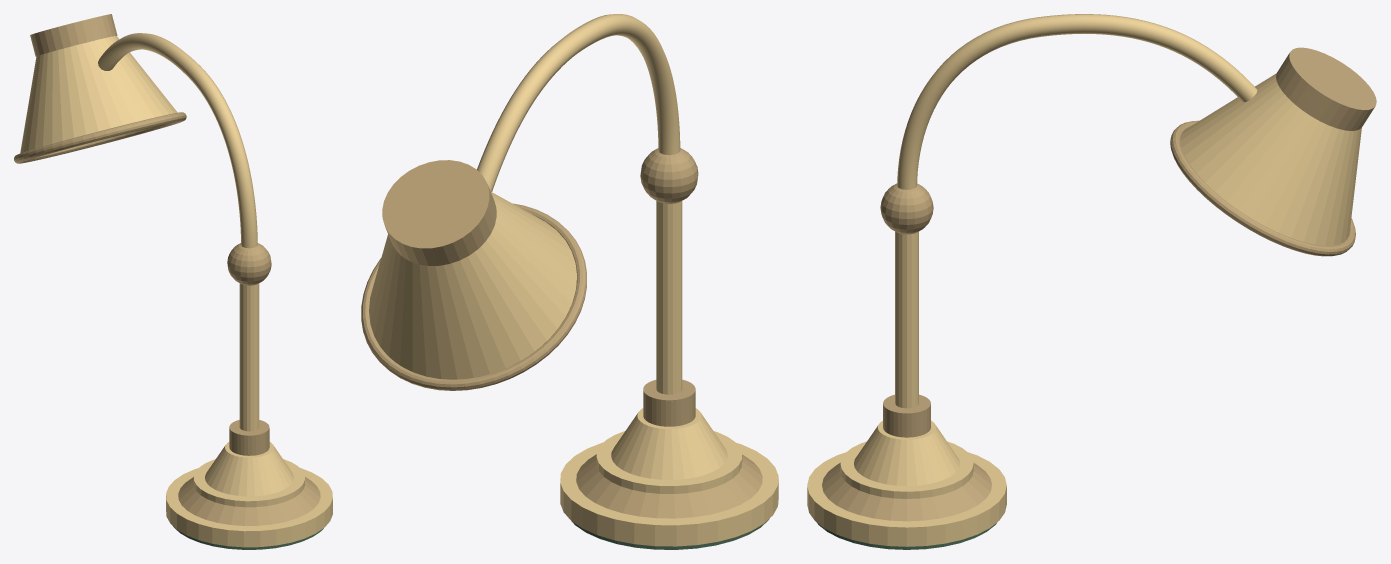
Rendered from lib_pulpit_lamp.glb.
3 views of the same model, side by side, from view 1: azimuth 30°, elevation 25°; view 2: azimuth 150°, elevation 25°; view 3: azimuth 270°, elevation 25° (orthographic). The views are drawn at different scales.
Parts seen in each view (by area): view 1: lib_pulpit_lamp; view 2: lib_pulpit_lamp; view 3: lib_pulpit_lamp.
Boxes of the visible parts, box(x1,y1,x2,y2) form: lib_pulpit_lamp: box(14, 14, 332, 549); lib_pulpit_lamp: box(361, 14, 778, 549); lib_pulpit_lamp: box(807, 14, 1376, 549).
Bounding box in the file's own units: 0.16 × 0.41 × 0.4279.
